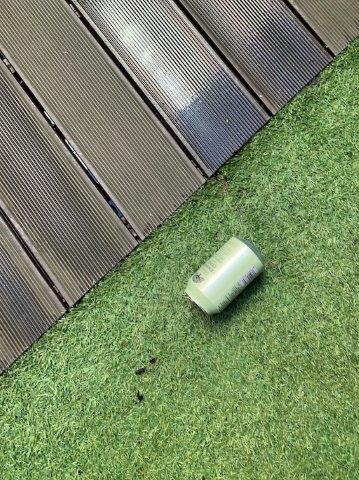kaleng: (184, 237, 266, 315)
